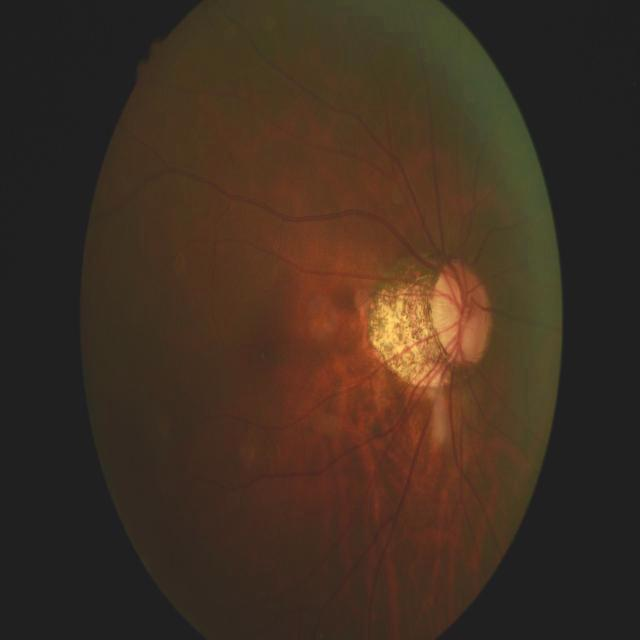cup: (431, 274, 474, 349)
disk: (429, 256, 493, 364)
